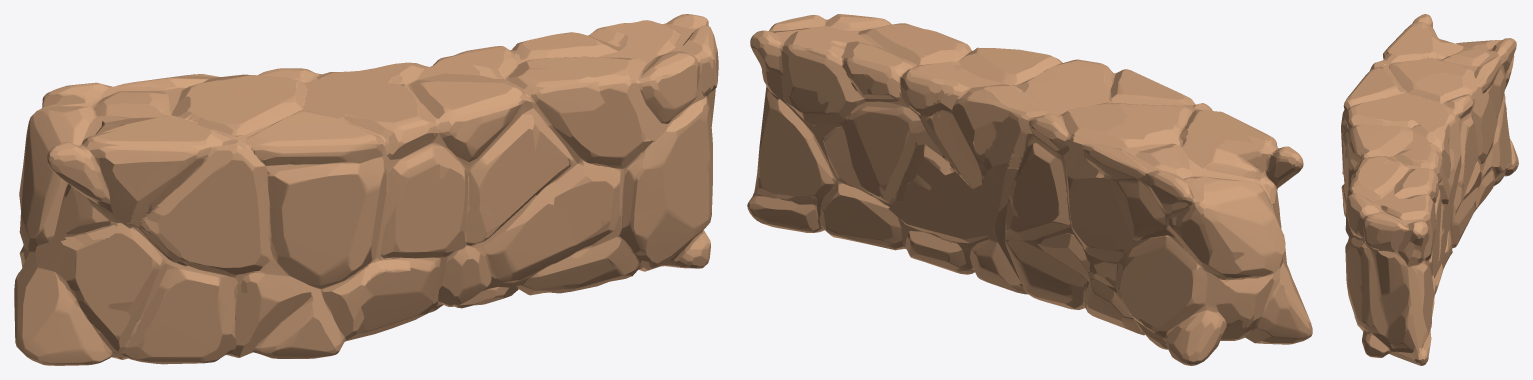
3 views of the same model, side by side, from view 1: azimuth 30°, elevation 25°; view 2: azimuth 150°, elevation 25°; view 3: azimuth 270°, elevation 25° (orthographic). The views are drawn at different scales.
Parts seen in each view (by area): view 1: Mesh_66_LOD0; view 2: Mesh_66_LOD0; view 3: Mesh_66_LOD0.
Boxes of the visible parts, <box> form: Mesh_66_LOD0: <box>14,14,718,365</box>; Mesh_66_LOD0: <box>747,14,1312,365</box>; Mesh_66_LOD0: <box>1341,14,1518,365</box>.
Size of what is drawn, in the model's own units: 6679 by 2310 by 2358.
